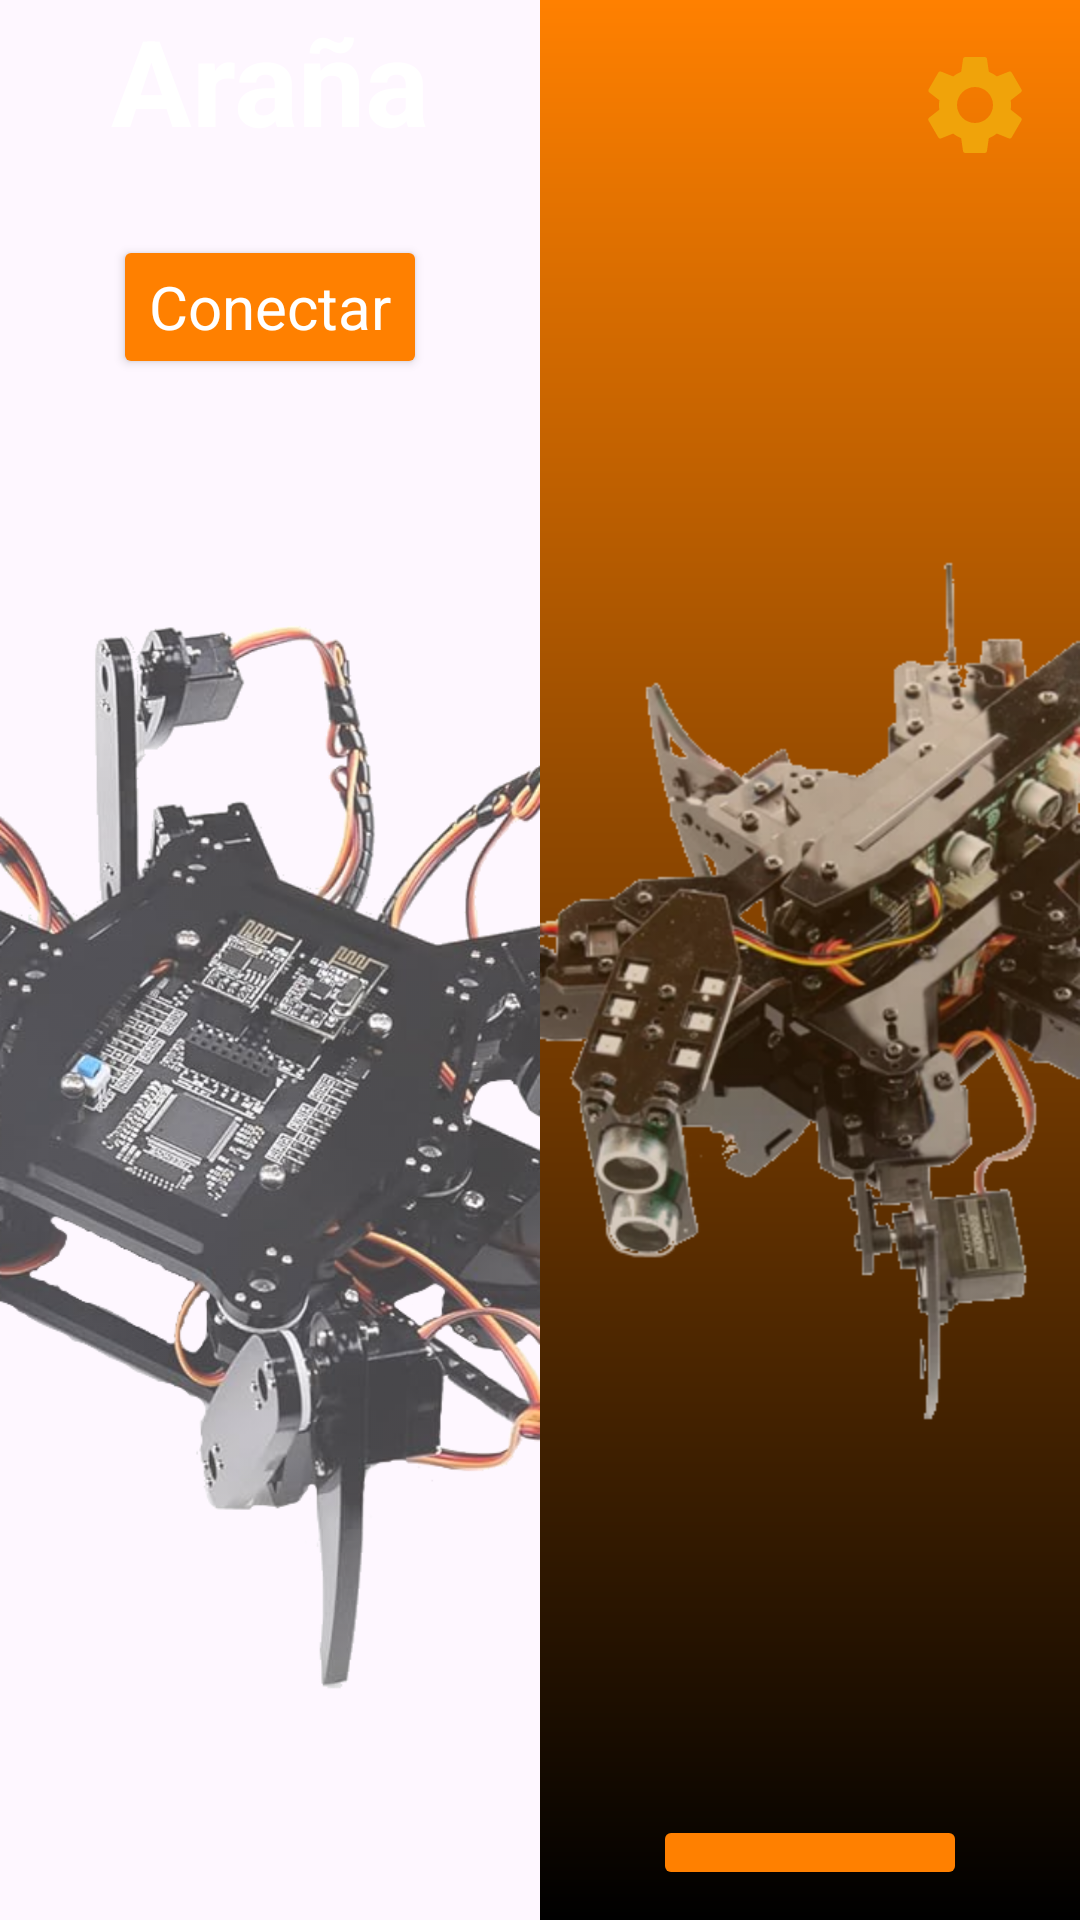

Point at icon controls on the screen. Image size 1080×1920, points as (x,y).
settings: (975,105)
